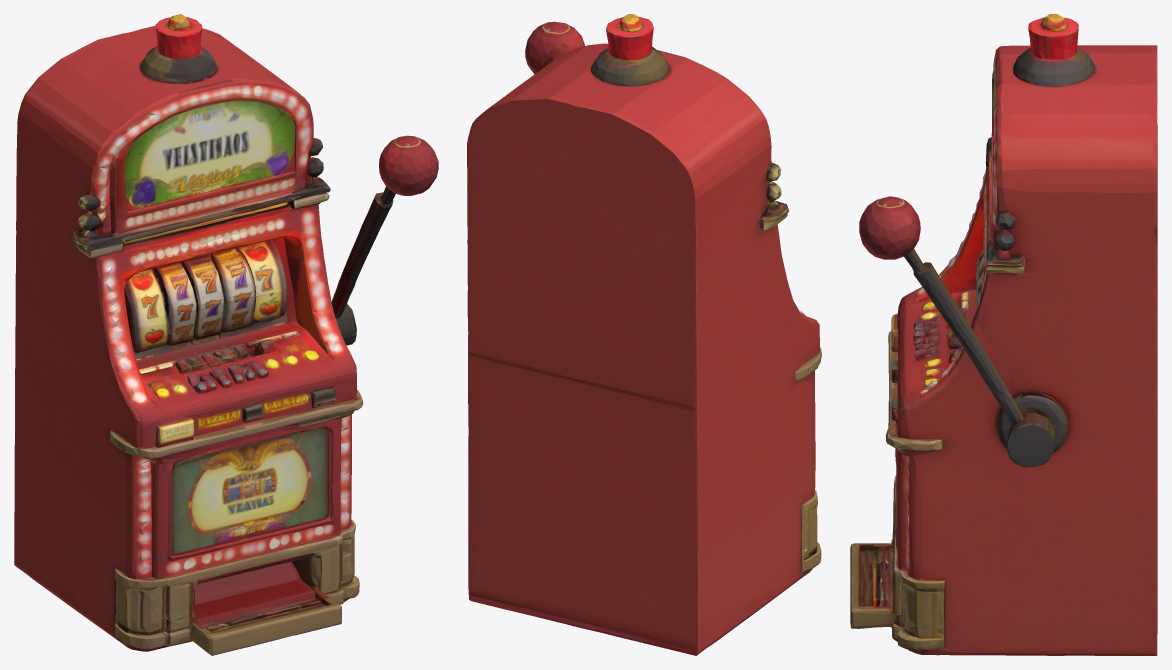
File: casion_slot_machine.glb
3 renders of one model, left to right at view 1: azimuth 30°, elevation 25°; view 2: azimuth 150°, elevation 25°; view 3: azimuth 270°, elevation 25°, orthographic. The views are drawn at different scales.
Visible parts, largest first — view 1: temp; view 2: temp; view 3: temp.
Part boxes in pixels (x1,y1,x2,y2): temp: (14,14,438,655); temp: (467,14,821,655); temp: (850,14,1157,655).
Bounding box in the file's own units: 1.13 × 1.99 × 0.9478.
Materials: 1 (1 with a texture image).
